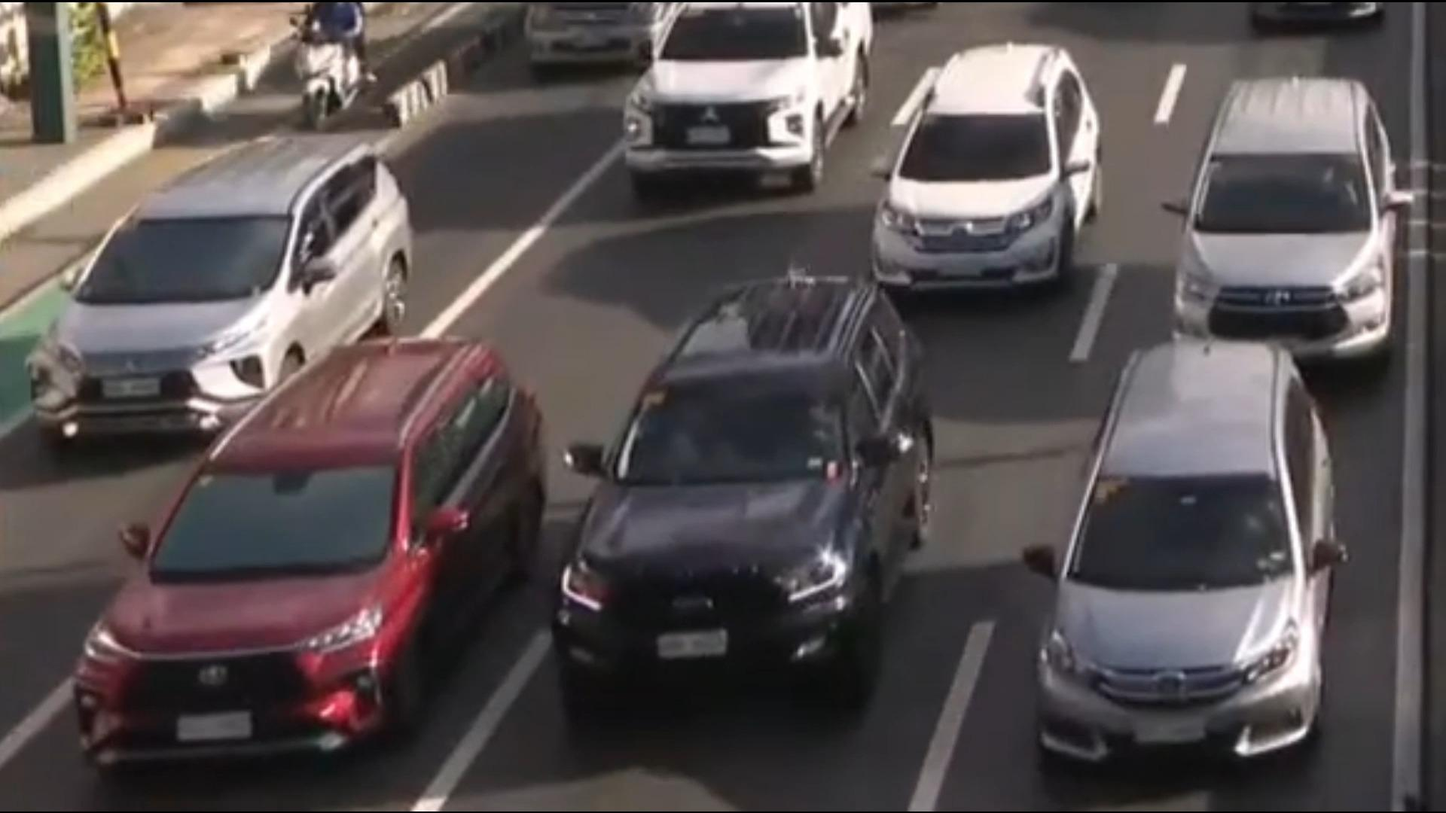Motorcycle: (286, 0, 369, 128)
SUV: (77, 334, 544, 766), (552, 276, 931, 696), (1035, 342, 1333, 748), (34, 148, 409, 436), (1179, 77, 1394, 353), (620, 4, 876, 173)
Sedan: (876, 47, 1096, 296)
